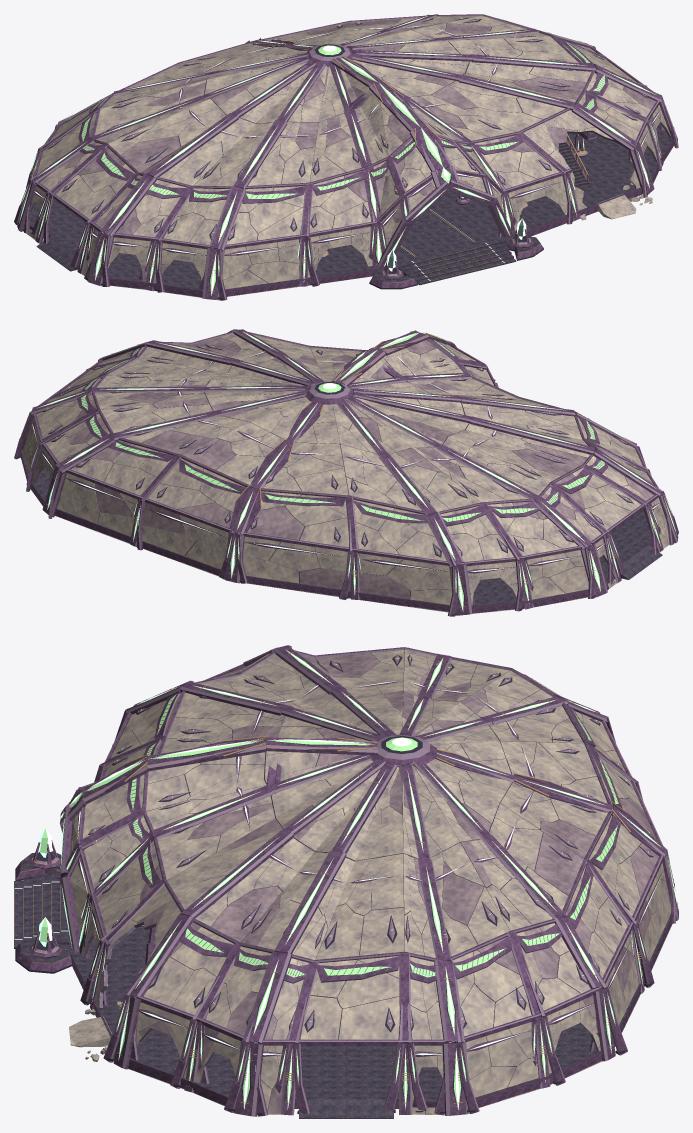
File: prism-seedship.glb
3 renders of one model, top to bottom at view 1: azimuth 30°, elevation 25°; view 2: azimuth 150°, elevation 25°; view 3: azimuth 270°, elevation 25°, orthographic. The views are drawn at different scales.
Visible parts, largest first — view 1: Landing raft • polygonal ground deck, Meridian 21 • folded longeron, Meridian 23 • folded longeron, Prism_Roof_19_Pristine, Prism_Mantle_23_Pristine, Meridian 05 • folded longeron, Prism_Skirt_23_Pristine, Prism_Roof_04_Pristine, Prism_Mantle_24_Pristine, Prism_Roof_23_Pristine, Meridian 01 • folded longeron, South threshold • six fan steps (+75 smaller); view 2: Landing raft • polygonal ground deck, Prism_Mantle_14_Pristine, Prism_Skirt_14_Pristine, Prism_Skirt_15_Pristine, Prism_Mantle_15_Pristine, Prism_Mantle_13_Pristine, Meridian 16 • folded longeron, Prism_Skirt_13_Pristine, Meridian 18 • folded longeron, Prism_Roof_14_Pristine, Prism_Roof_13_Pristine, Prism_Mantle_12_Pristine (+67 smaller); view 3: Landing raft • polygonal ground deck, Meridian 07 • folded longeron, Prism_Mantle_08_Pristine, Meridian 10 • folded longeron, Prism_Roof_08_Pristine, Meridian 05 • folded longeron, Prism_Mantle_10_Pristine, Meridian 12 • folded longeron, Prism_Roof_10_Pristine, Prism_Roof_05_Pristine, Meridian 01 • folded longeron, Prism_Mantle_05_Pristine (+79 smaller).
Boxes of the visible parts, x1=… form: Landing raft • polygonal ground deck: x1=19, y1=128, x2=673, y2=297; Meridian 21 • folded longeron: x1=84, y1=61, x2=315, y2=286; Meridian 23 • folded longeron: x1=198, y1=62, x2=325, y2=300; Prism_Roof_19_Pristine: x1=109, y1=99, x2=225, y2=172; Prism_Mantle_23_Pristine: x1=226, y1=186, x2=306, y2=244; Meridian 05 • folded longeron: x1=352, y1=53, x2=654, y2=197; Prism_Skirt_23_Pristine: x1=222, y1=239, x2=299, y2=296; Prism_Roof_04_Pristine: x1=431, y1=81, x2=565, y2=131; Prism_Mantle_24_Pristine: x1=309, y1=169, x2=370, y2=232; Prism_Roof_23_Pristine: x1=248, y1=122, x2=318, y2=185; Meridian 01 • folded longeron: x1=331, y1=56, x2=459, y2=188; South threshold • six fan steps: x1=397, y1=239, x2=516, y2=285; Landing raft • polygonal ground deck: x1=20, y1=450, x2=676, y2=613; Prism_Mantle_14_Pristine: x1=245, y1=491, x2=349, y2=547; Prism_Skirt_14_Pristine: x1=242, y1=536, x2=350, y2=598; Prism_Skirt_15_Pristine: x1=359, y1=553, x2=452, y2=612; Prism_Mantle_15_Pristine: x1=352, y1=500, x2=446, y2=561; Prism_Mantle_13_Pristine: x1=147, y1=458, x2=246, y2=527; Meridian 16 • folded longeron: x1=337, y1=398, x2=475, y2=616; Prism_Skirt_13_Pristine: x1=141, y1=502, x2=228, y2=575; Meridian 18 • folded longeron: x1=346, y1=396, x2=609, y2=598; Prism_Roof_14_Pristine: x1=262, y1=442, x2=348, y2=495; Prism_Roof_13_Pristine: x1=182, y1=422, x2=283, y2=485; Prism_Mantle_12_Pristine: x1=71, y1=440, x2=174, y2=495; Landing raft • polygonal ground deck: x1=69, y1=913, x2=672, y2=1108; Meridian 07 • folded longeron: x1=224, y1=763, x2=397, y2=1116; Prism_Mantle_08_Pristine: x1=300, y1=956, x2=401, y2=1039; Meridian 10 • folded longeron: x1=399, y1=764, x2=479, y2=1115; Prism_Roof_08_Pristine: x1=315, y1=853, x2=404, y2=959; Meridian 05 • folded longeron: x1=103, y1=759, x2=385, y2=1069; Prism_Mantle_10_Pristine: x1=453, y1=935, x2=531, y2=1036; Meridian 12 • folded longeron: x1=412, y1=760, x2=627, y2=1061; Prism_Roof_10_Pristine: x1=430, y1=843, x2=509, y2=956; Prism_Roof_05_Pristine: x1=195, y1=838, x2=314, y2=942; Meridian 01 • folded longeron: x1=67, y1=737, x2=377, y2=820; Prism_Mantle_05_Pristine: x1=143, y1=922, x2=235, y2=1014.
Bounding box in the file's own units: 208 × 43.22 × 144.
24 materials, 7 textured.
